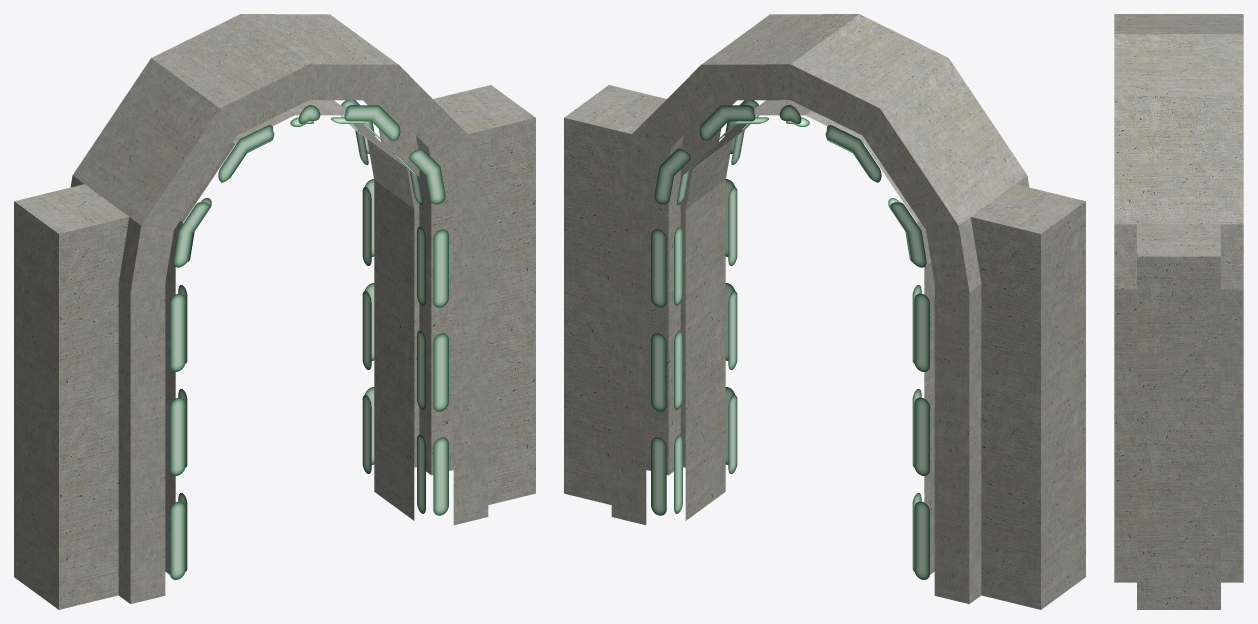
Rendered from thm_corl_imprv_arch_sm_s02_l1.fbx.
3 renders of one model, left to right at view 1: azimuth 30°, elevation 25°; view 2: azimuth 150°, elevation 25°; view 3: azimuth 270°, elevation 25°, orthographic. The views are drawn at different scales.
Parts seen in each view (by area): view 1: mesh_node; view 2: mesh_node; view 3: mesh_node.
Part boxes in pixels (bbox=[...]): mesh_node: bbox=[14, 14, 535, 609]; mesh_node: bbox=[564, 14, 1085, 609]; mesh_node: bbox=[1114, 14, 1243, 609].
Size of the model in its own units: 8 by 7.95 by 2.
2 materials, 2 textured.
